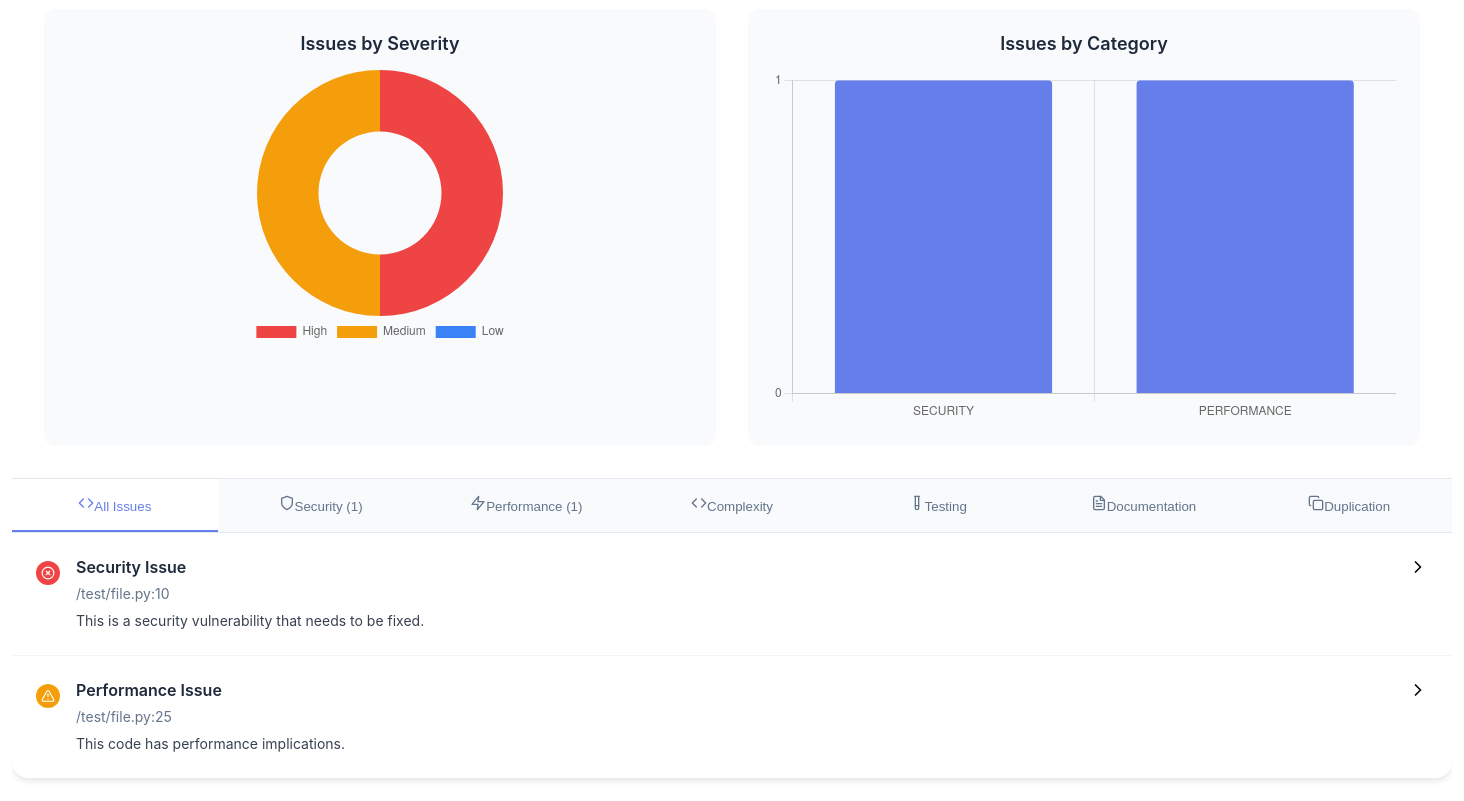
Test: AnalysisResults Component › expands issue details when clicked
(page scrolled)
# Click on the first issue
Click the heading "Security Issue". click: point(131, 567)
box: [76,557,186,577]
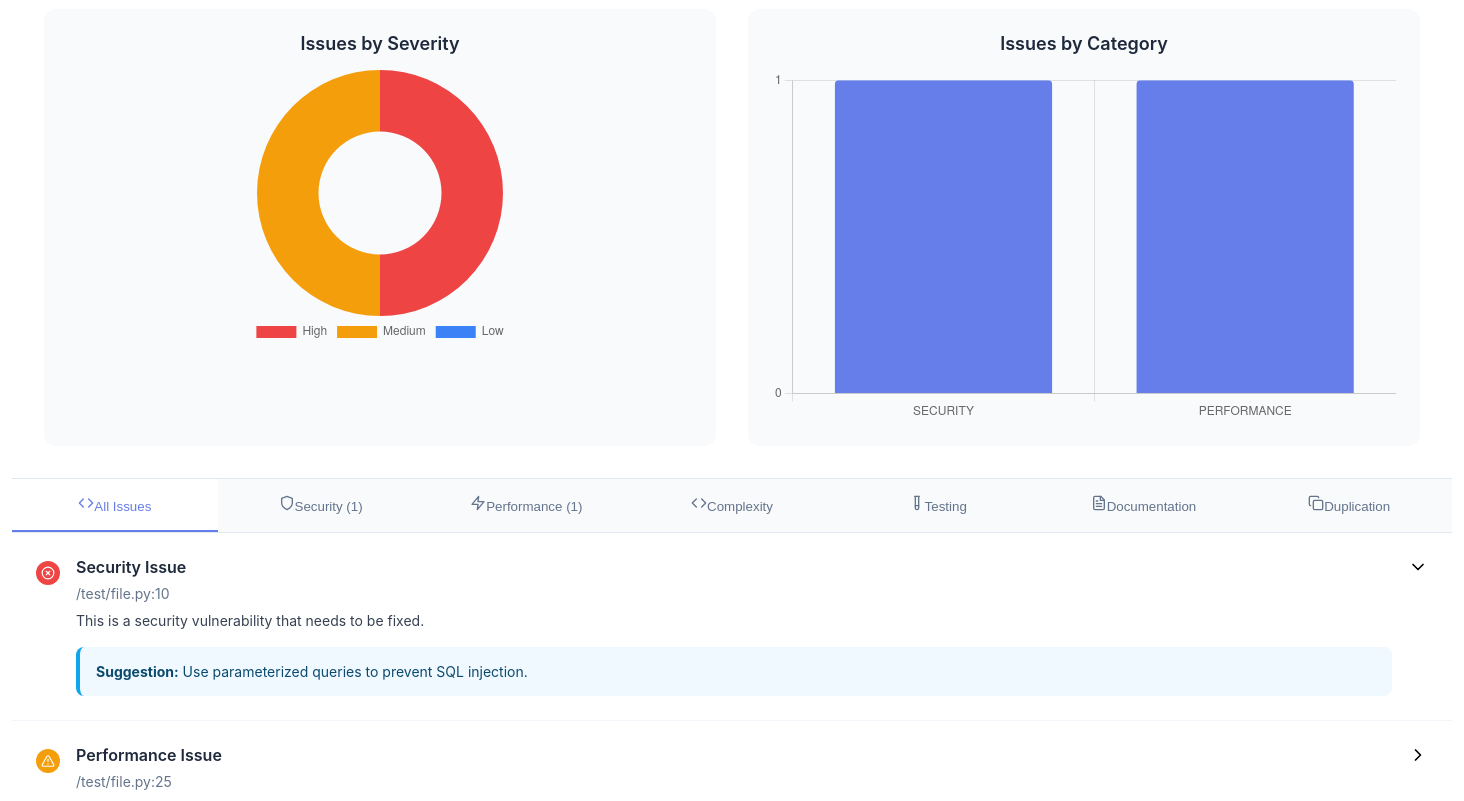
Now the text "Suggestion:" is shown, box [96,663,179,680]
Now the text "Use parameterized queries to prevent SQL injection." is shown, box [183,663,528,680]
